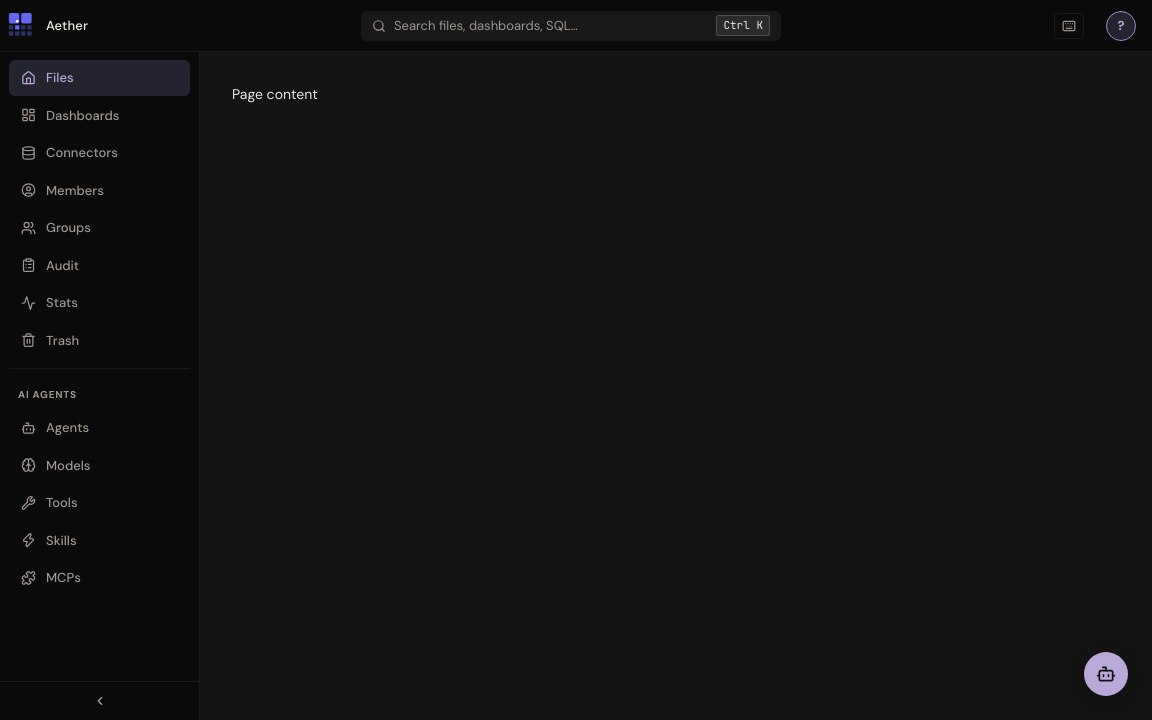
Scenario: AppShell › opens the search palette from the top-bar search field
What coordinates should you click on to do the following:
click the button "Search files, dashboards, SQL… Ctrl K"
I would click on:
 (571, 26)
Its box is [361, 10, 781, 40].
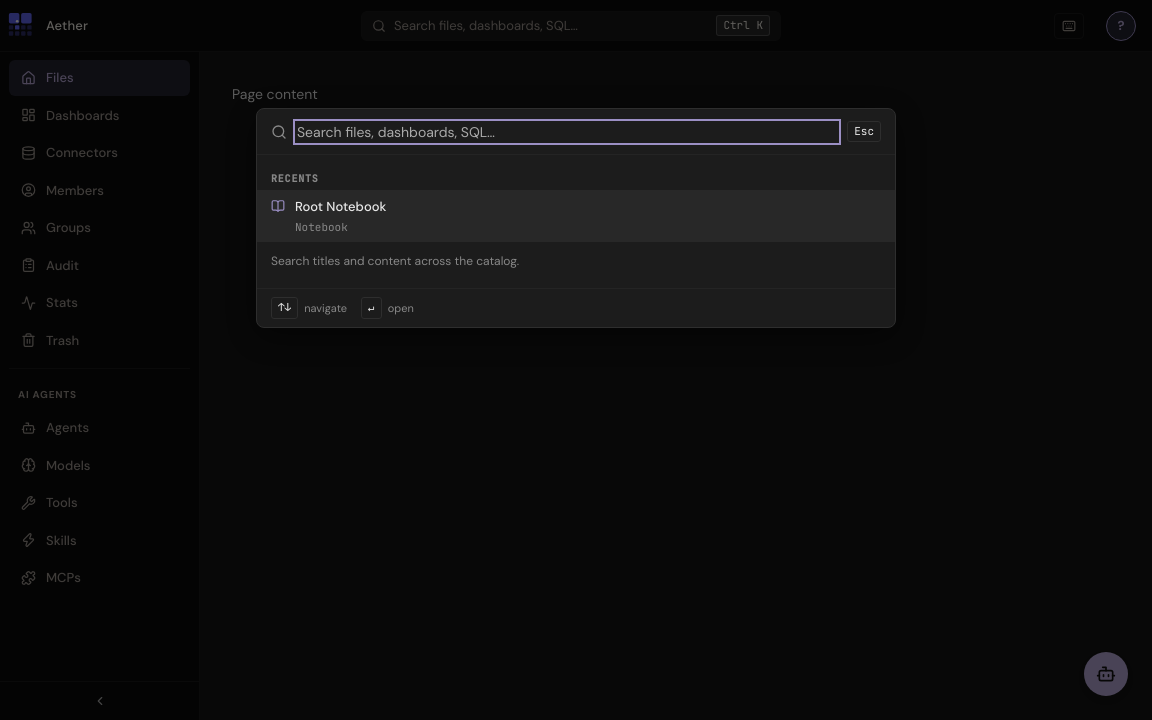
Expected: the dialog named "Search palette" is shown, [256, 108, 896, 328]
